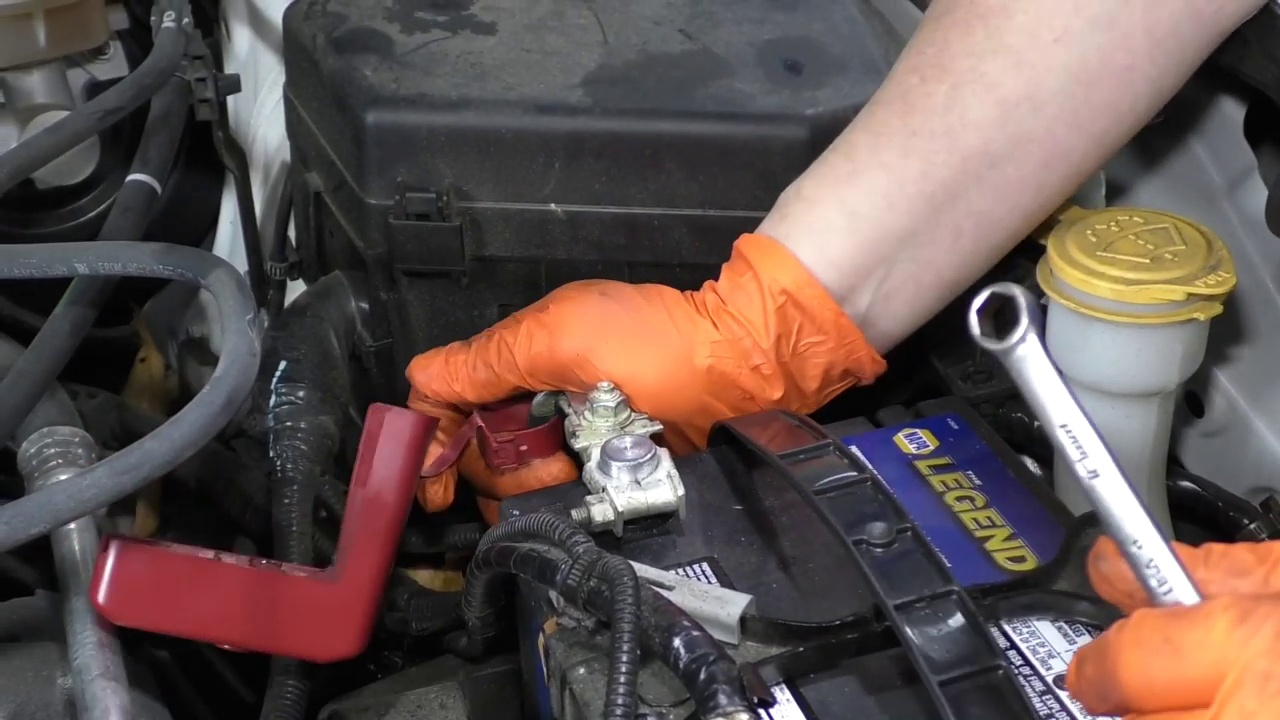battery: (488, 391, 1170, 720)
pos_touched: (372, 288, 713, 533)
